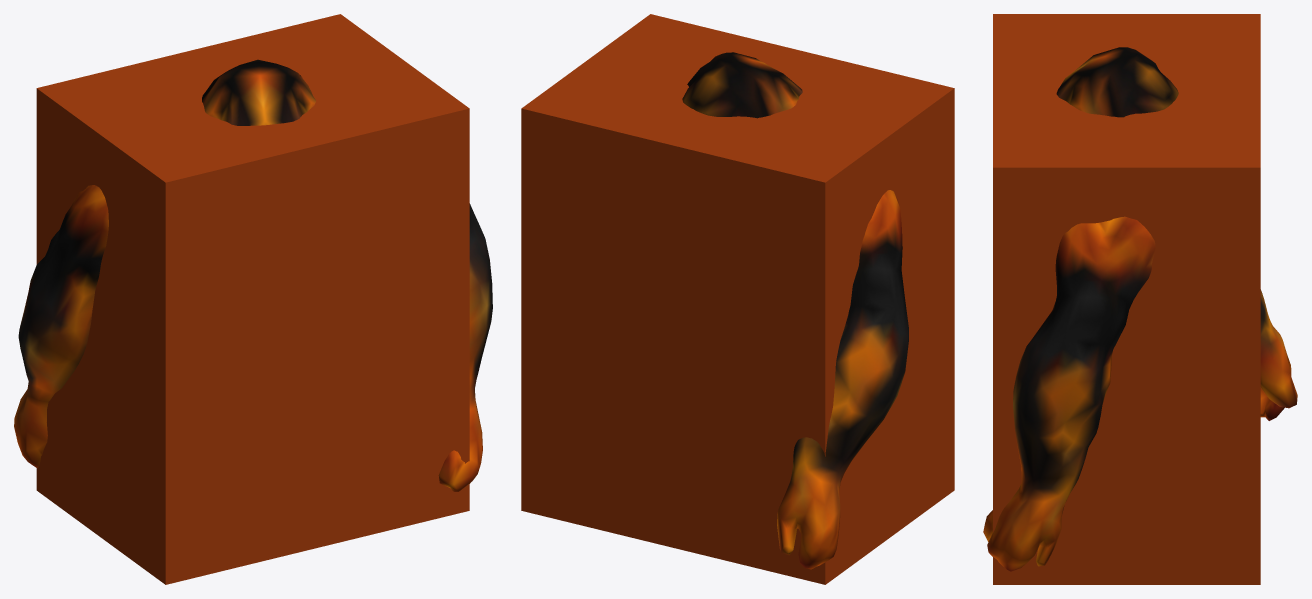
File: MagmaElemental_1_000024.obj
The picture shows the model from 3 angles, left to right: view 1: azimuth 30°, elevation 25°; view 2: azimuth 150°, elevation 25°; view 3: azimuth 270°, elevation 25°; orthographic projection. The views are drawn at different scales.
Parts seen in each view (by area): view 1: Cube, Elemental_FireGolem; view 2: Cube, Elemental_FireGolem; view 3: Cube, Elemental_FireGolem.
Part boxes in pixels (box(x1,y1,x2,y2)): Cube: box(36, 14, 469, 584); Elemental_FireGolem: box(14, 59, 492, 491); Cube: box(521, 14, 954, 584); Elemental_FireGolem: box(682, 52, 908, 569); Cube: box(993, 14, 1260, 584); Elemental_FireGolem: box(983, 47, 1297, 571).
Size of the model in its own units: 3.37 by 3.91 by 2.24.
2 materials, 1 textured.
